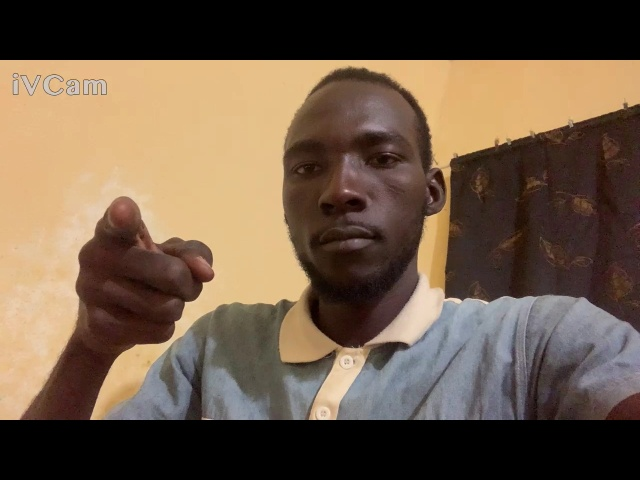tu: (68, 192, 221, 360)
